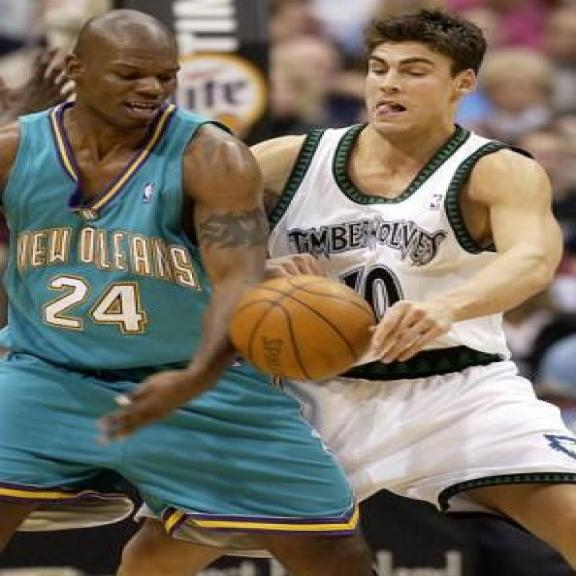face: (56, 30, 187, 129), (364, 37, 477, 132)
